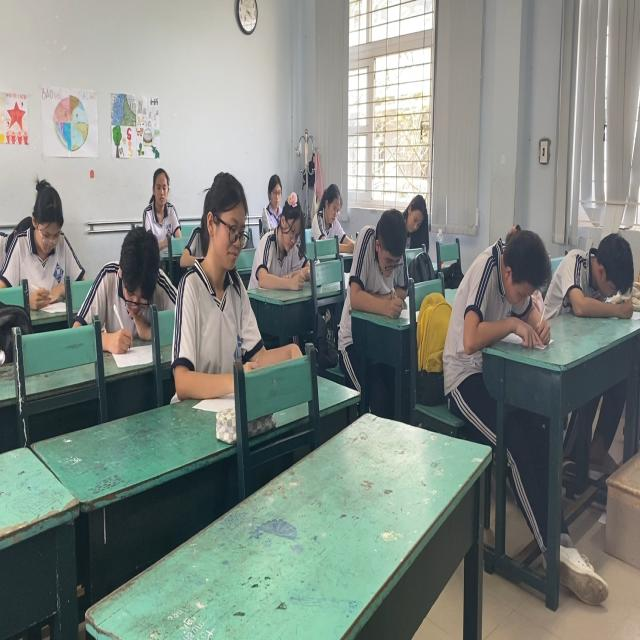not_cheating: (454, 208, 548, 366), (177, 169, 257, 351), (10, 162, 89, 297), (552, 224, 640, 335), (84, 238, 160, 325), (259, 200, 329, 286), (344, 210, 400, 308), (146, 169, 185, 245), (395, 194, 432, 245), (313, 180, 346, 234)
